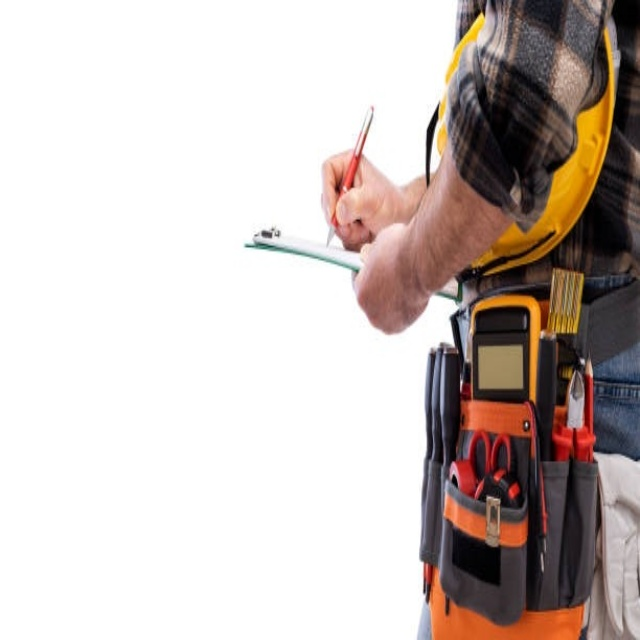Sin_guantes: (349, 218, 432, 336), (320, 146, 392, 255)
